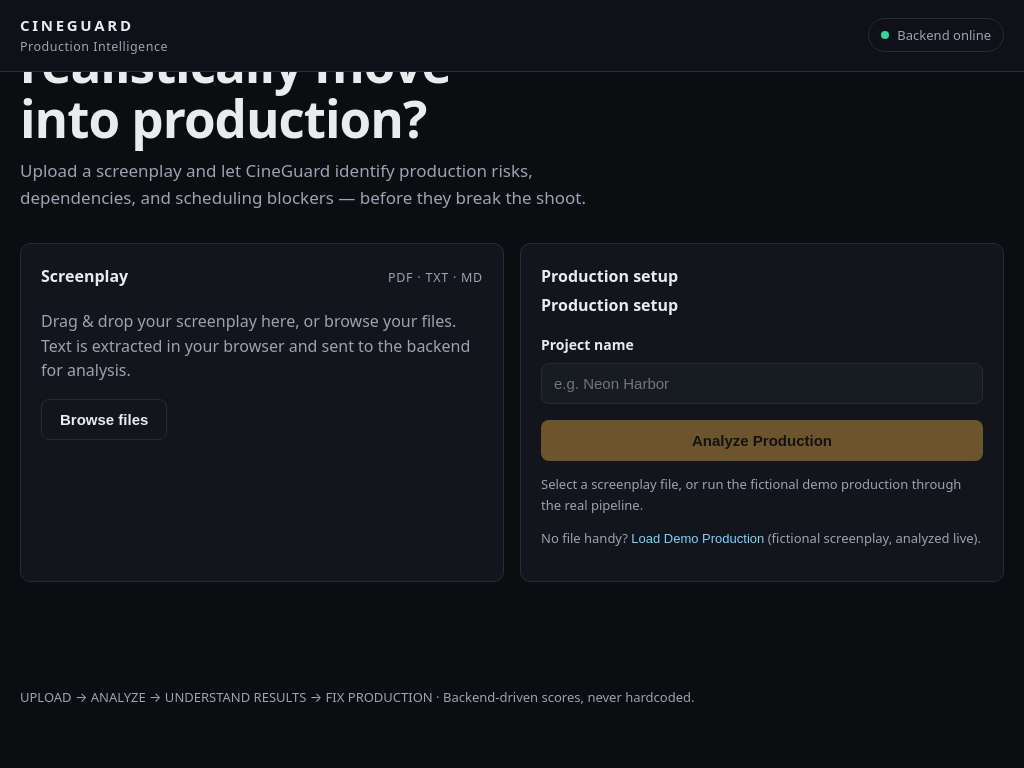
Test: CineGuard journey › shows a friendly error when the demo cannot load
(page scrolled)
Click the button "Load Demo Production" at point(698, 538), box [631, 531, 764, 546]
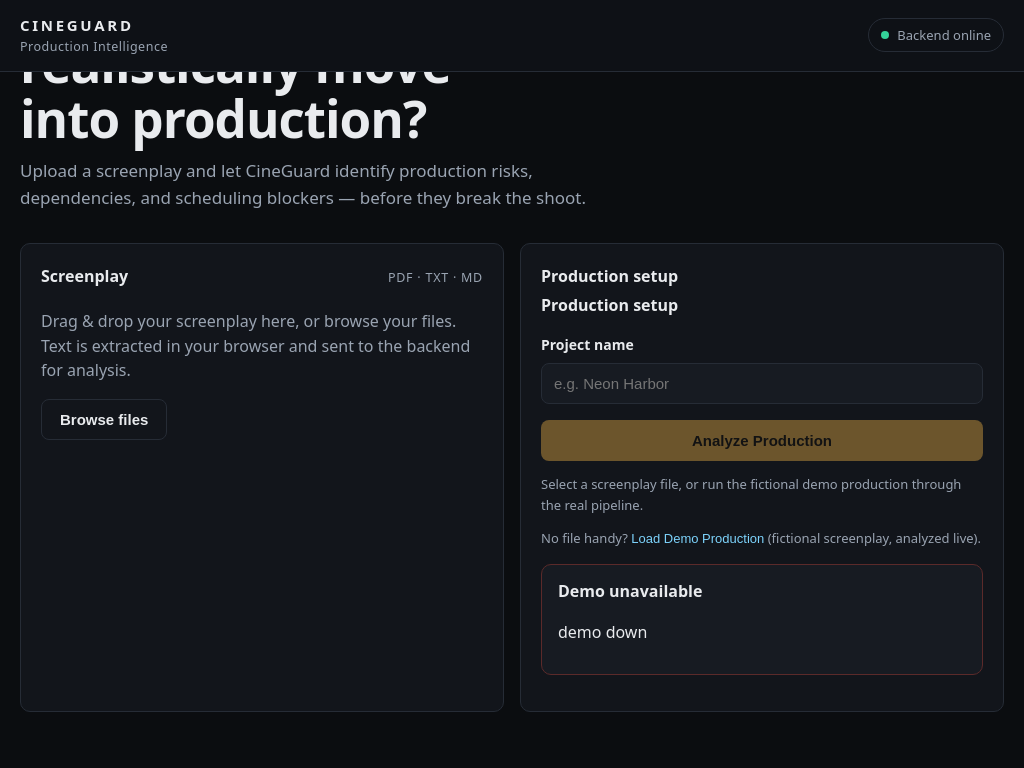
Now the text "demo down" is shown, box [558, 621, 647, 643]
